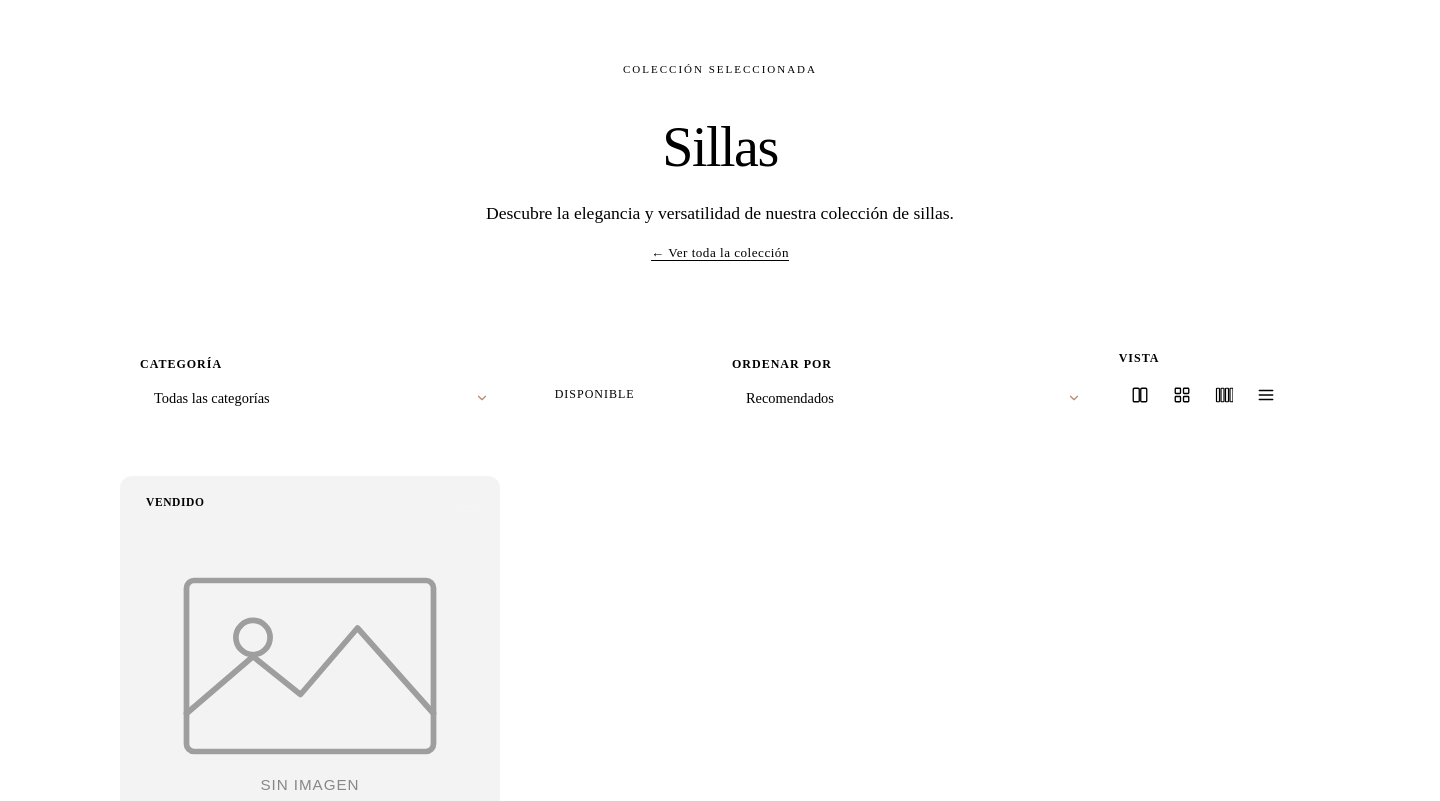
Test: Catálogo — estados vacíos (H40) › "Ver todo el catálogo" también quita el filtro "Disponible"
Click the checkbox labelled "Disponible": (595, 394) [555,387,635,401]
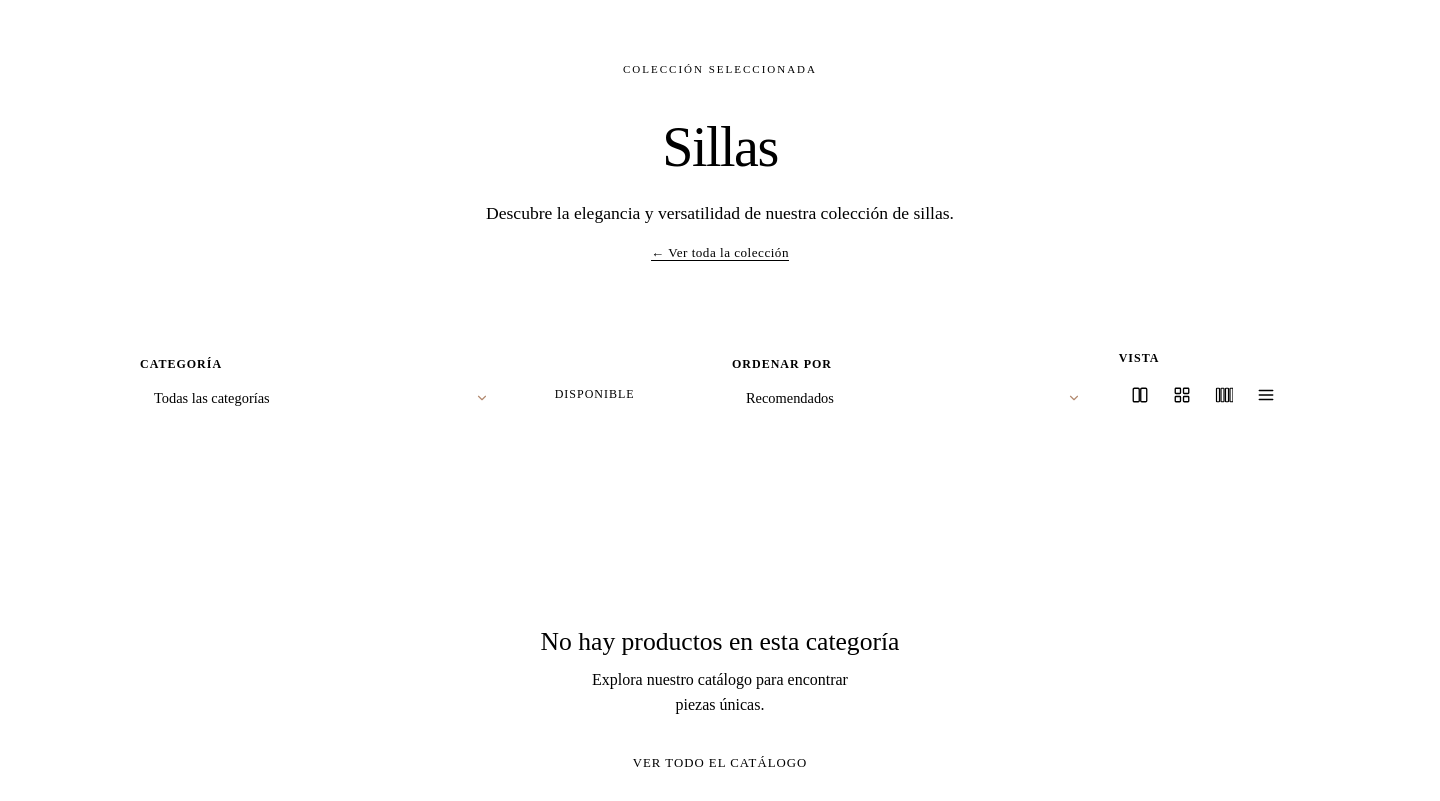
Now the heading "No hay productos en esta categoría" is shown, box [540,627,899,657]
Click the button "Ver todo el catálogo": (720, 764) [601,742,839,785]
(page scrolled)
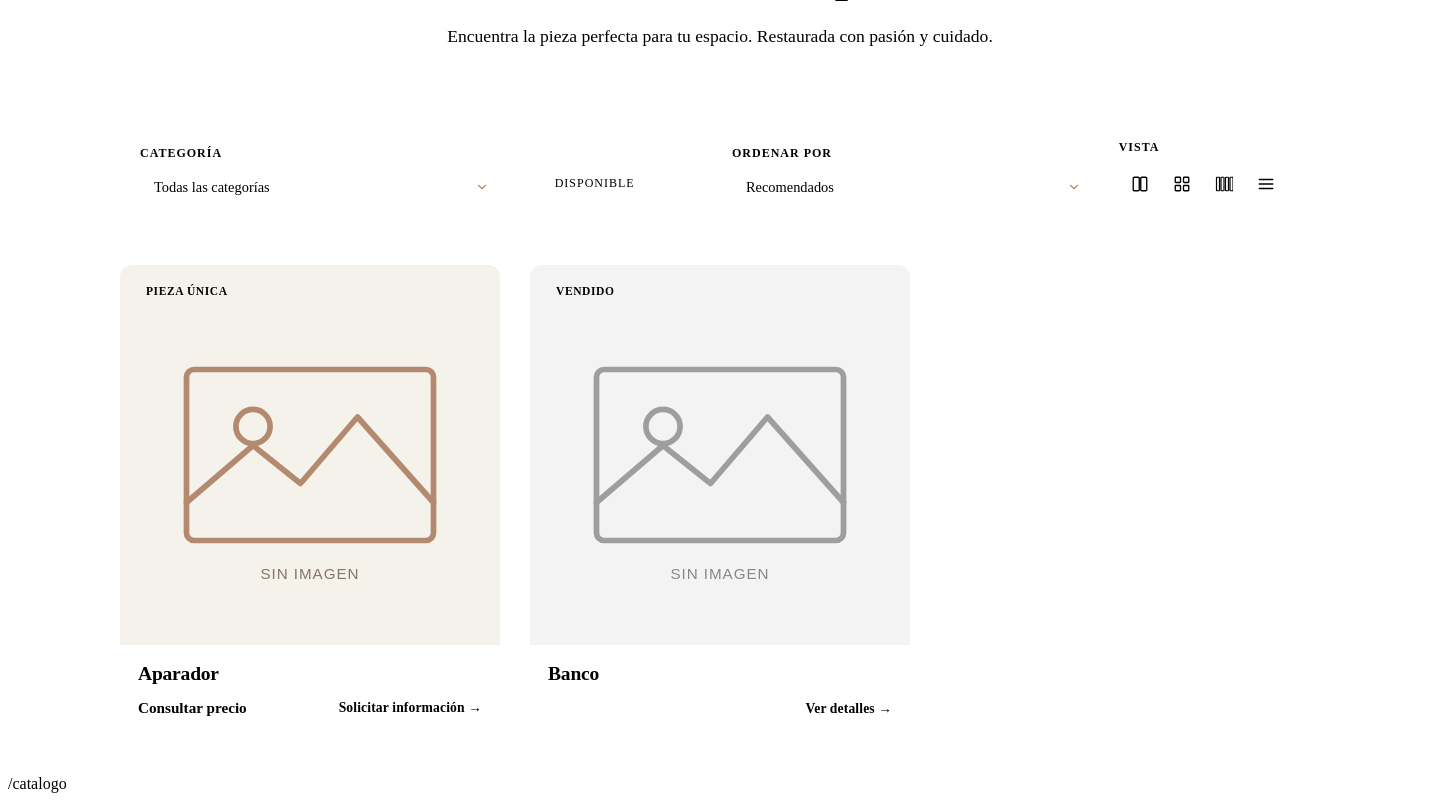
Now the checkbox labelled "Disponible" is not checked, box [555,176,635,190]
Now the heading "Banco" is shown, box [548,663,599,684]
